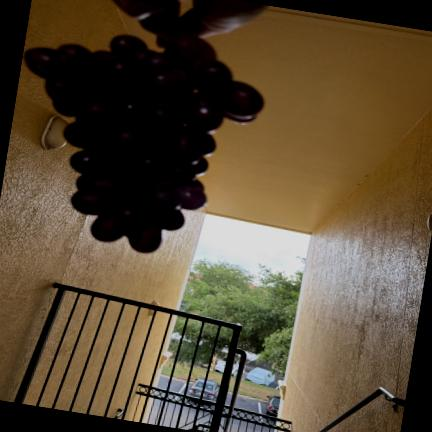grape_cluster: (25, 35, 263, 253)
